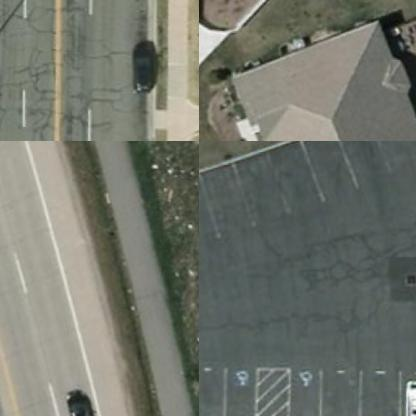car: (126, 40, 162, 96), (53, 388, 107, 415), (391, 382, 415, 415)
